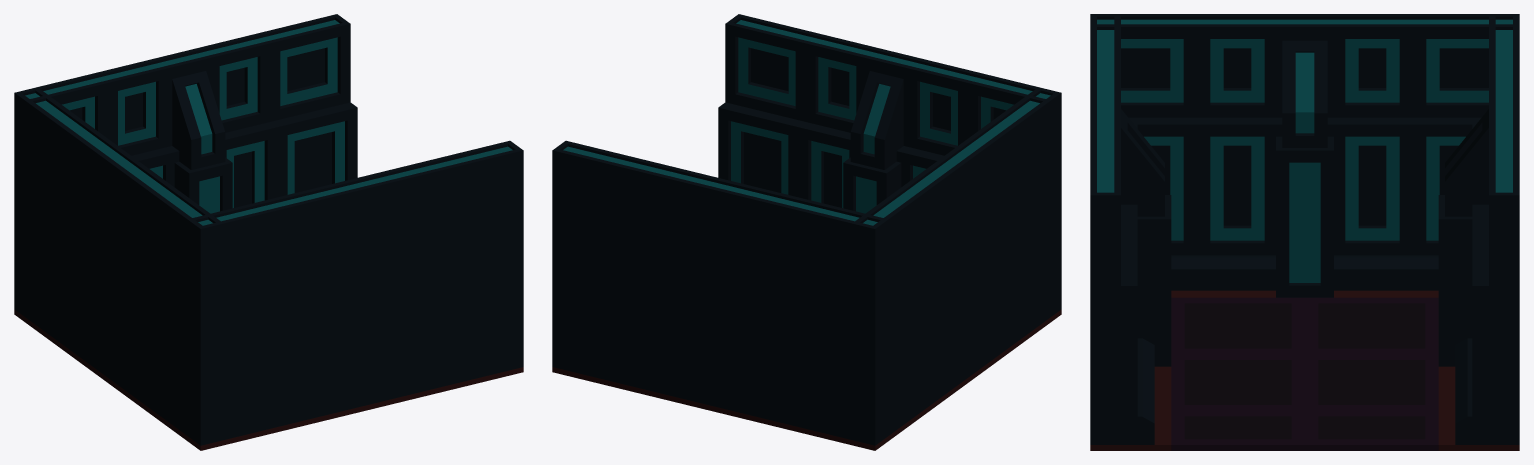
File: DeadMaze.fbx
3 views of the same model, side by side, from view 1: azimuth 30°, elevation 25°; view 2: azimuth 150°, elevation 25°; view 3: azimuth 270°, elevation 25° (orthographic). The views are drawn at different scales.
Visible parts, largest first — view 1: Dead_way; view 2: Dead_way; view 3: Dead_way.
Part boxes in pixels (<box>): Dead_way: <box>14,14,523,450</box>; Dead_way: <box>552,14,1061,450</box>; Dead_way: <box>1090,14,1519,450</box>.
Bounding box in the file's own units: 1116 × 733 × 1116.
